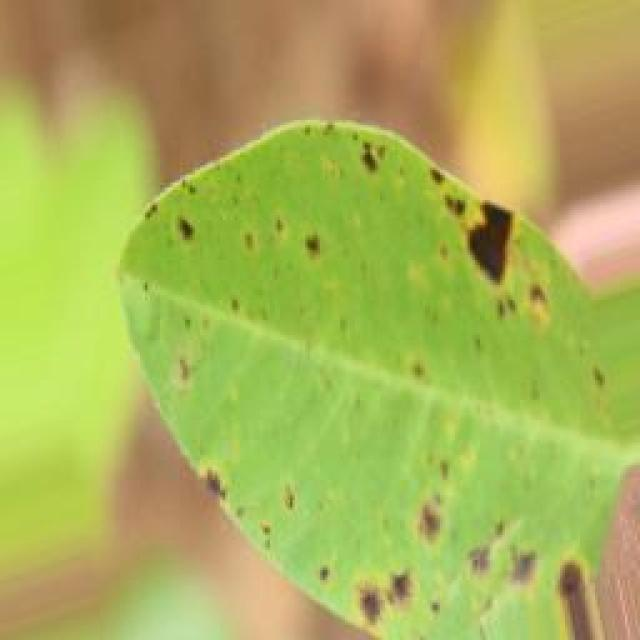Yellowish: (116, 106, 576, 620)
